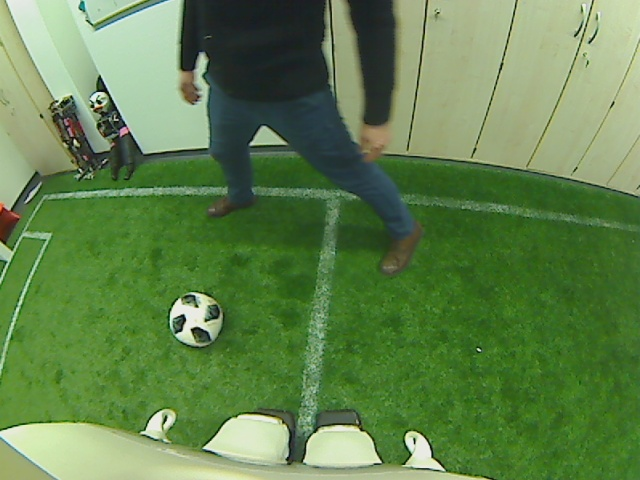ball: (166, 293, 222, 346)
